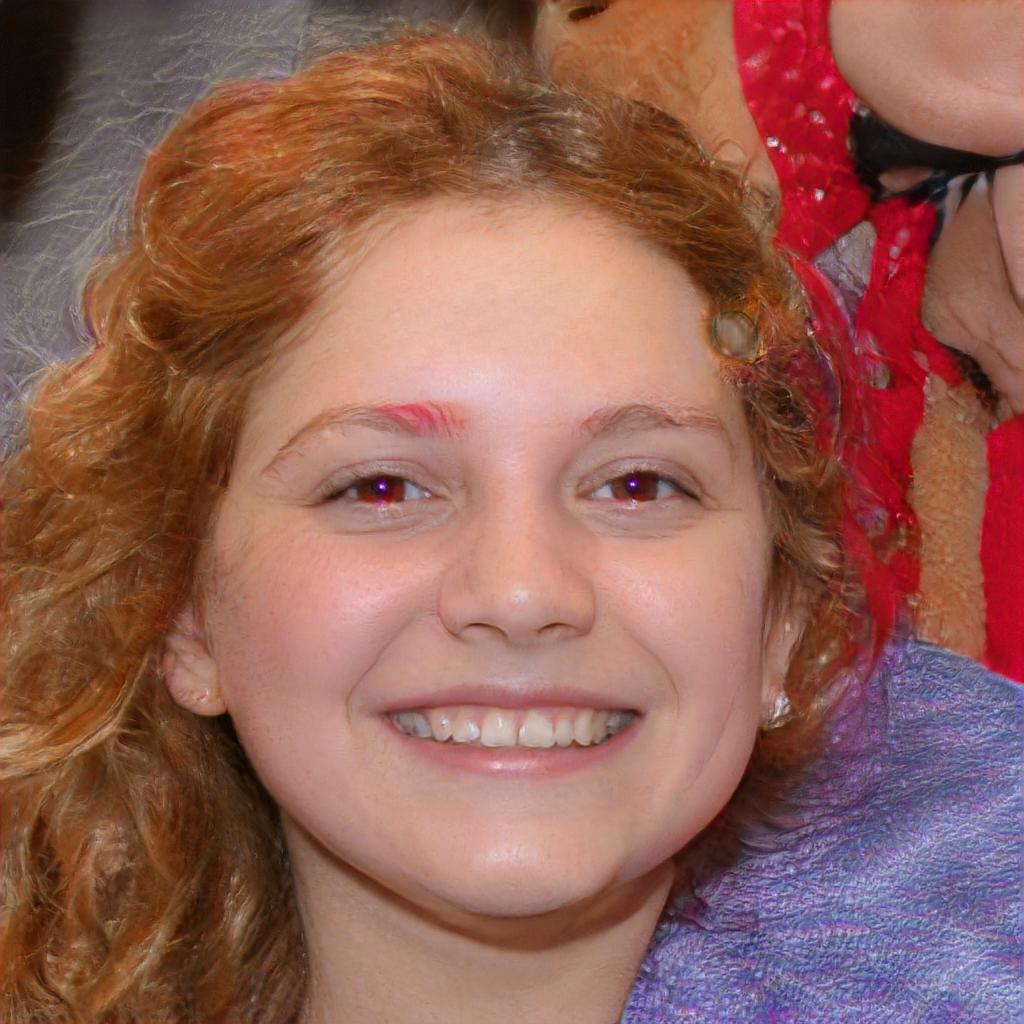face: (227, 197, 761, 914)
